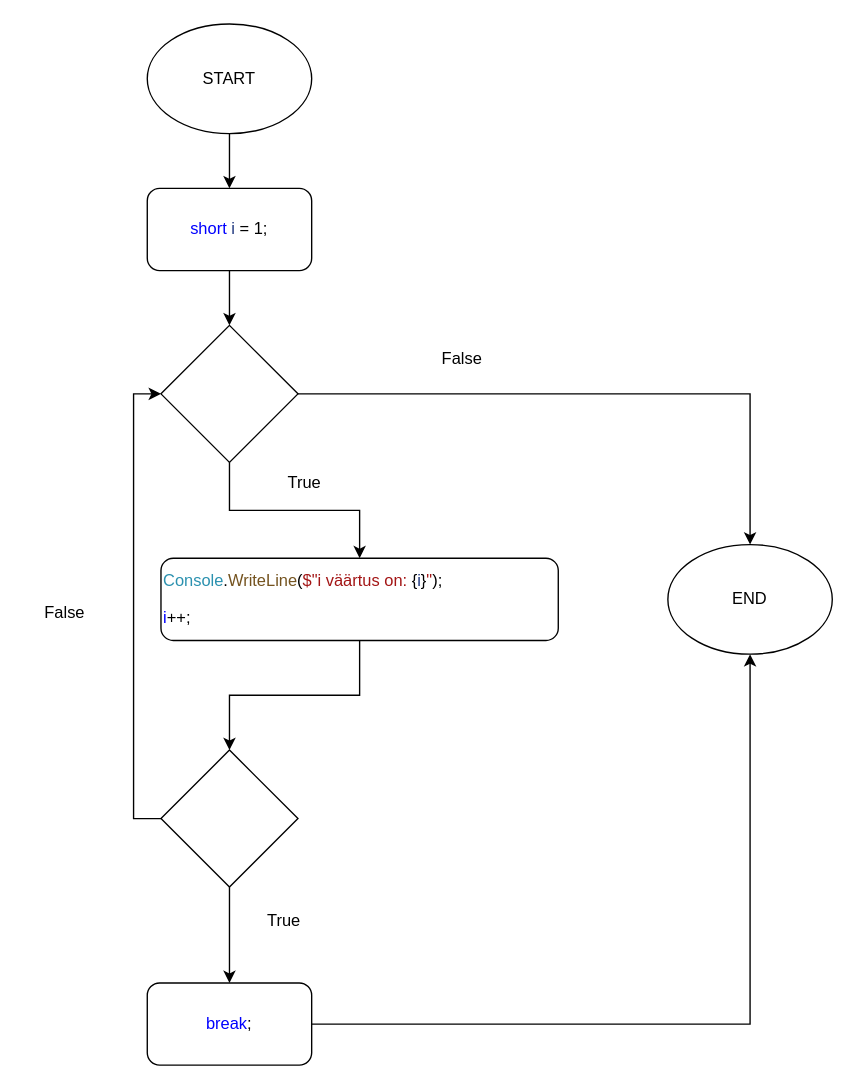
Some shapes in this 856 by 1089 pixel diagram are drawn without their labels. Each missing label, with the centre of its shape:
"for (; ; )" belongs at (229,393).
"if ( i == 10)" belongs at (229,818).
